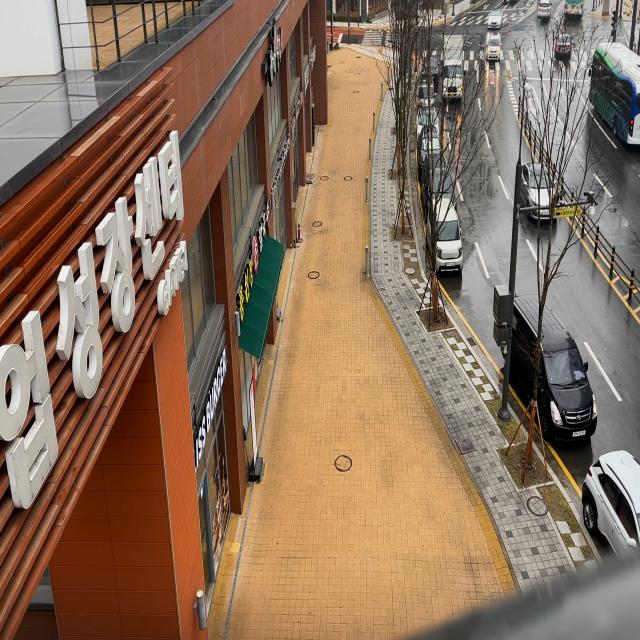Bus: (584, 28, 640, 160), (558, 0, 586, 22)
Car: (501, 277, 610, 450), (574, 439, 640, 579), (519, 145, 568, 236), (420, 194, 465, 281), (419, 152, 455, 208), (416, 123, 444, 165), (484, 30, 506, 70), (414, 105, 442, 134), (419, 52, 444, 84), (485, 3, 508, 32), (550, 28, 570, 59), (416, 77, 438, 104), (534, 0, 556, 25)
